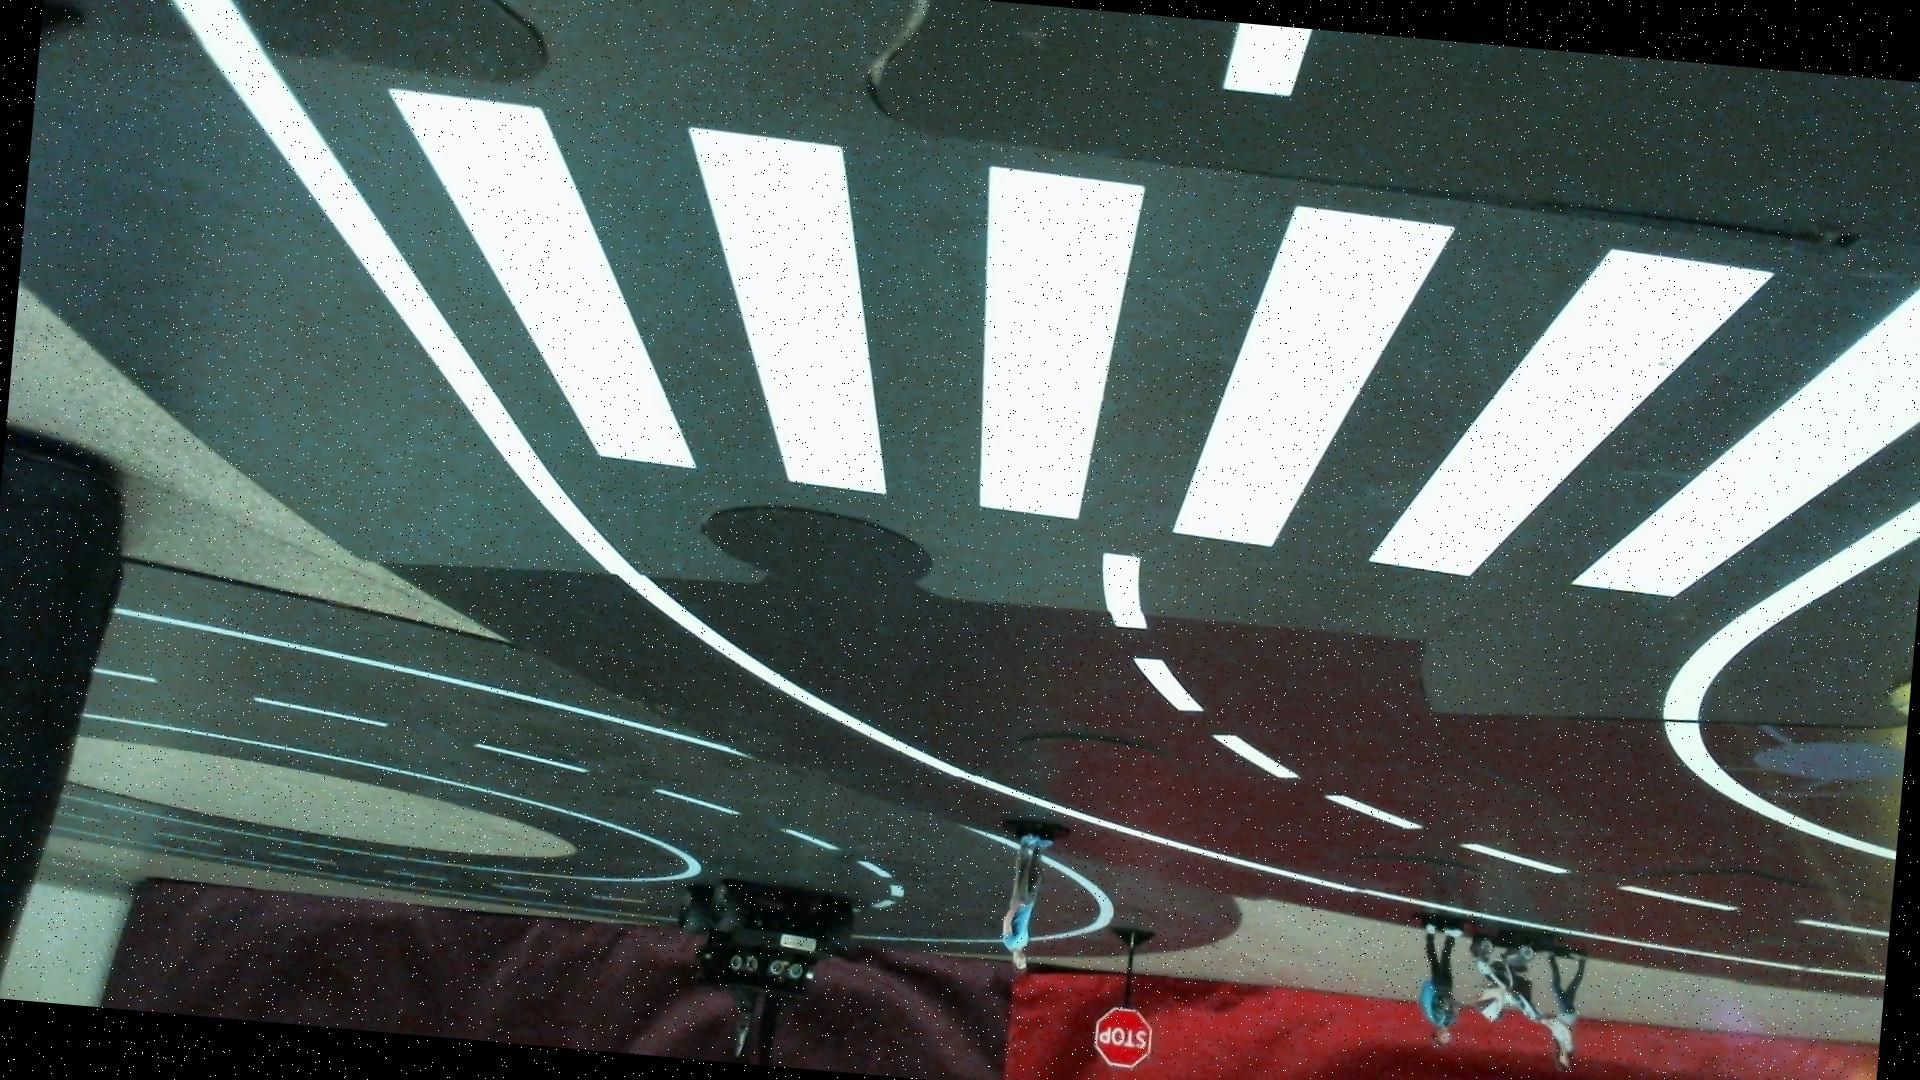crossing: (263, 55, 1920, 630)
person: (1460, 928, 1593, 1071), (994, 818, 1052, 980), (1404, 916, 1470, 1052)
